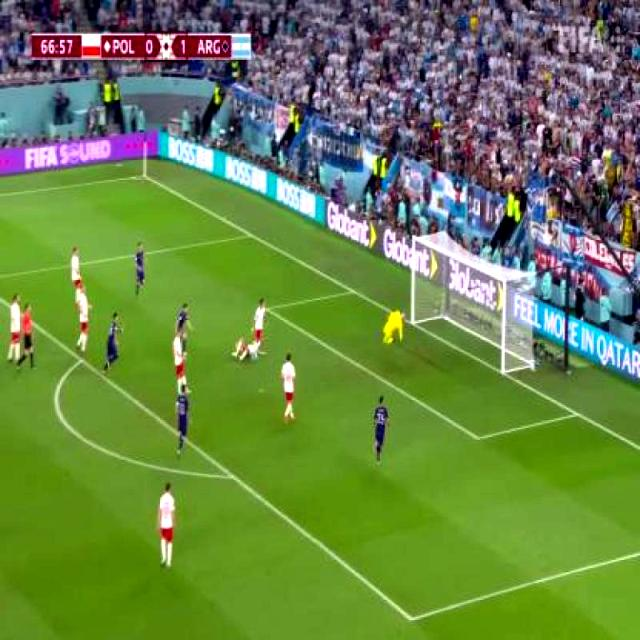bigarea_bottom_inner: (402, 602, 422, 636)
bigarea_top_outter: (242, 222, 260, 248)
bottom_arc_area_intersection: (223, 461, 242, 491)
corner: (139, 170, 151, 183)
smallarea_bottom_inner: (468, 421, 490, 456)
smallarea_bottom_outter: (568, 397, 588, 429)
smallarea_top_inner: (263, 302, 274, 318)
smallarea_top_outter: (344, 278, 362, 305)
top_arc_area_intersection: (75, 346, 90, 376)
